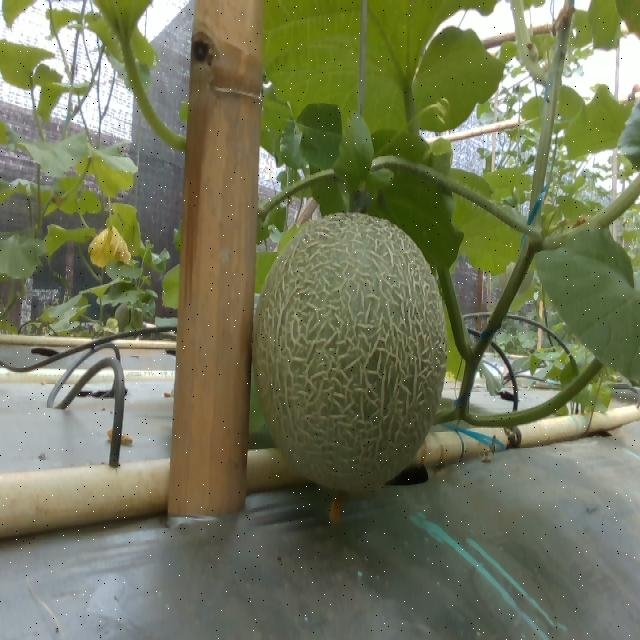melon: (253, 213, 446, 491)
